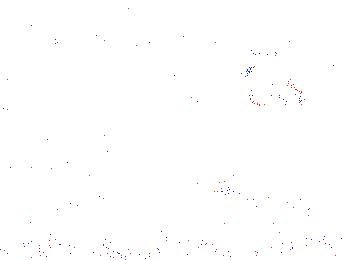flame jellyfish: (238, 57, 309, 109), (280, 171, 346, 221), (211, 154, 270, 204)
